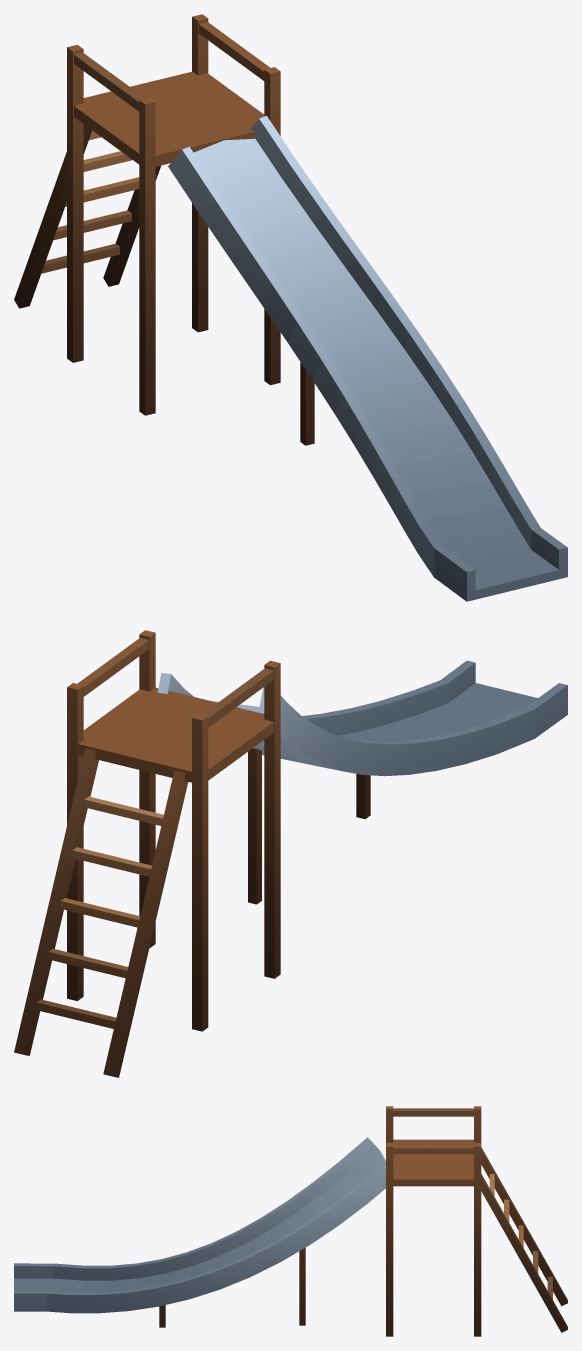
The model's file is PlayGround_Kit_Slide.fbx.
The picture shows the model from 3 angles, top to bottom: view 1: azimuth 30°, elevation 25°; view 2: azimuth 150°, elevation 25°; view 3: azimuth 270°, elevation 25°; orthographic projection. The views are drawn at different scales.
Parts seen in each view (by area): view 1: PlayGround_Kit_Slide; view 2: PlayGround_Kit_Slide; view 3: PlayGround_Kit_Slide.
Boxes of the visible parts, x1,y1,x2,y2 form: PlayGround_Kit_Slide: (14,14,567,601); PlayGround_Kit_Slide: (14,630,567,1077); PlayGround_Kit_Slide: (14,1106,567,1336).
Bounding box in the file's own units: 1.04 × 2.02 × 5.28.
